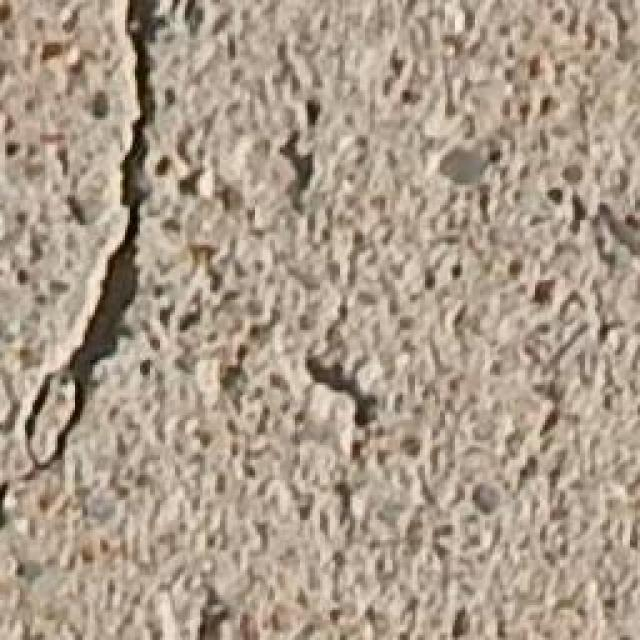concrete-crack: (1, 0, 183, 543)
